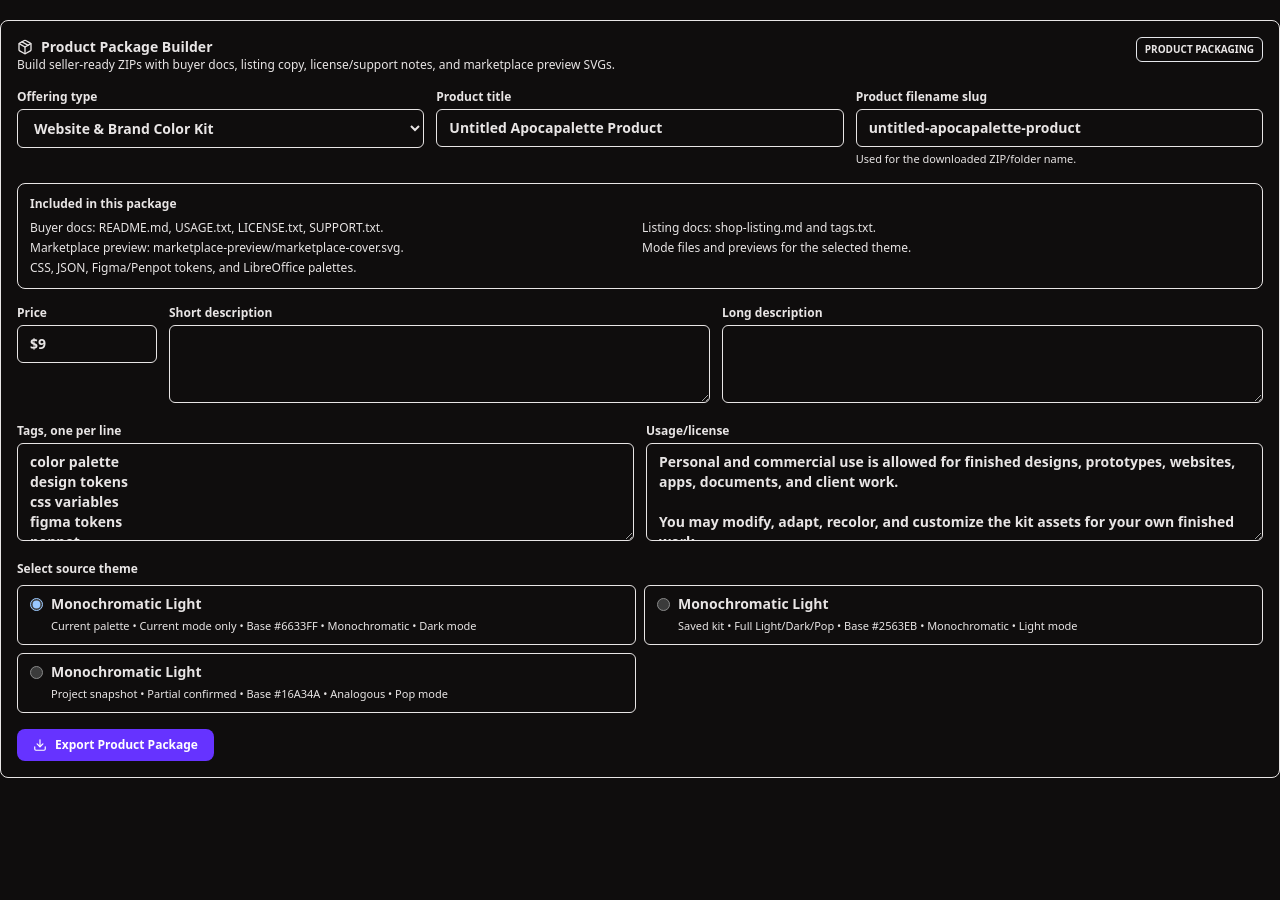
it: ProductExportBuilder › summarizes mini package contents without full kit extras
Select "Mini Website Palette / Freebie" in the dropdown labelled "Offering type" at coordinates (221, 128), box [17, 109, 424, 148]
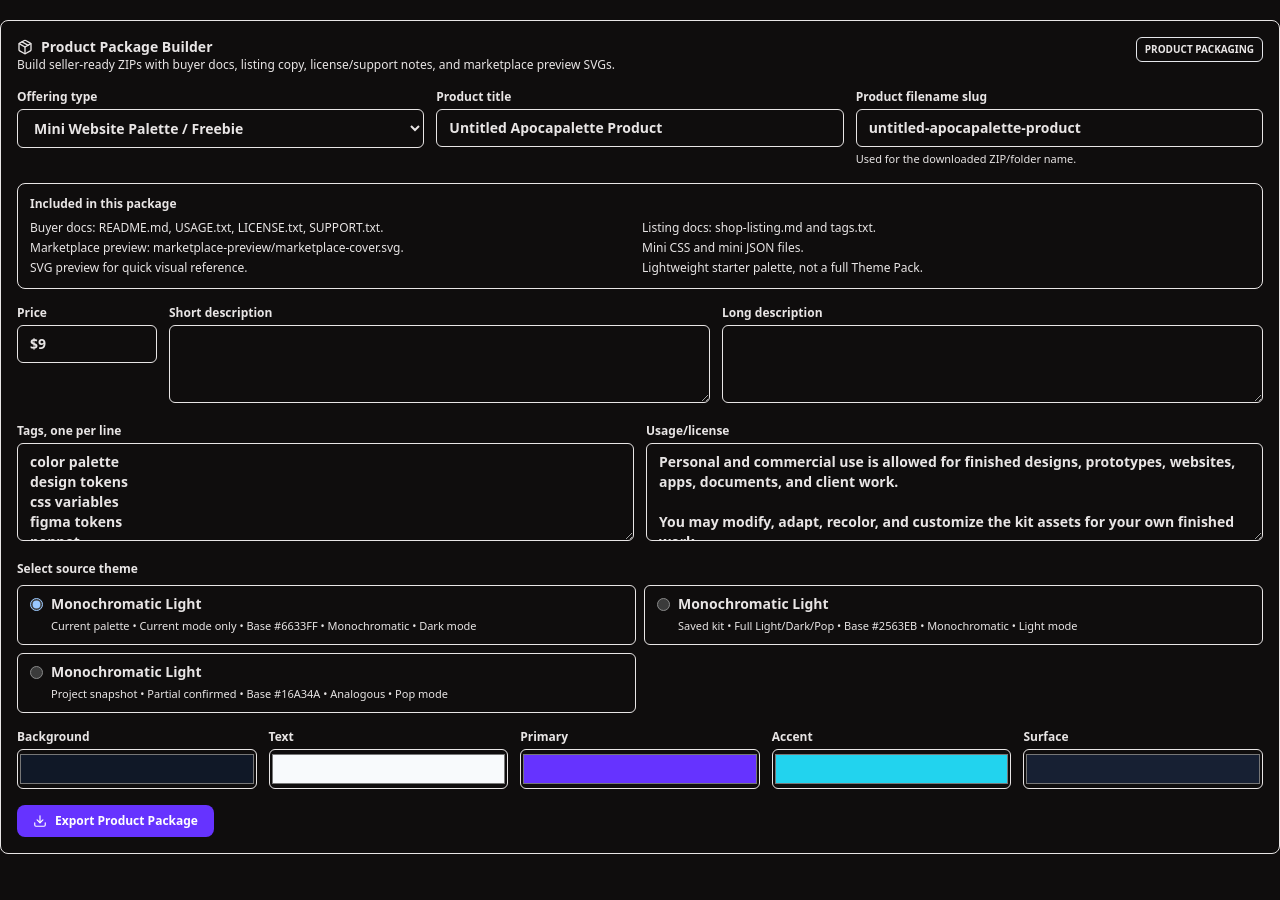
Now the list item "Mini CSS and mini JSON files." is shown, box [642, 239, 804, 256]
Now the list item "SVG preview for quick visual reference." is shown, box [30, 259, 247, 276]
Now the list item "Lightweight starter palette, not a full Theme Pack." is shown, box [642, 259, 923, 276]
